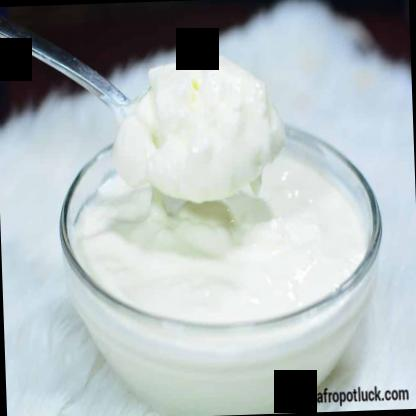yogurt: (61, 59, 384, 415)
